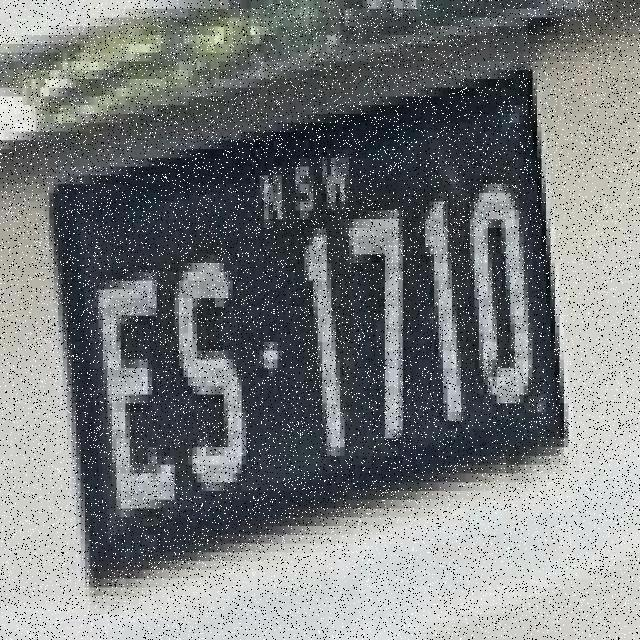License Plate: (38, 49, 578, 601)
